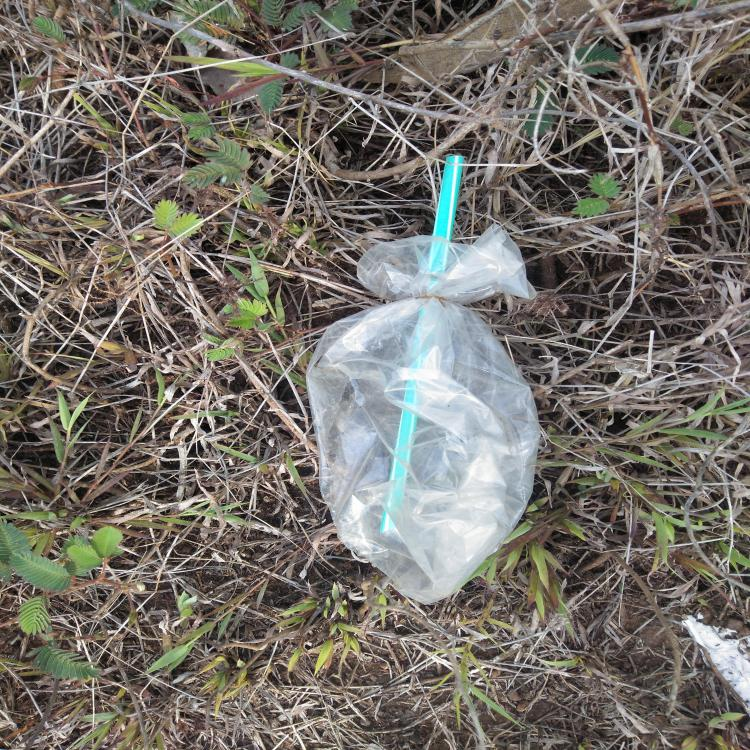Plastic film: (305, 223, 541, 605)
Plastic straw: (380, 156, 464, 532)
